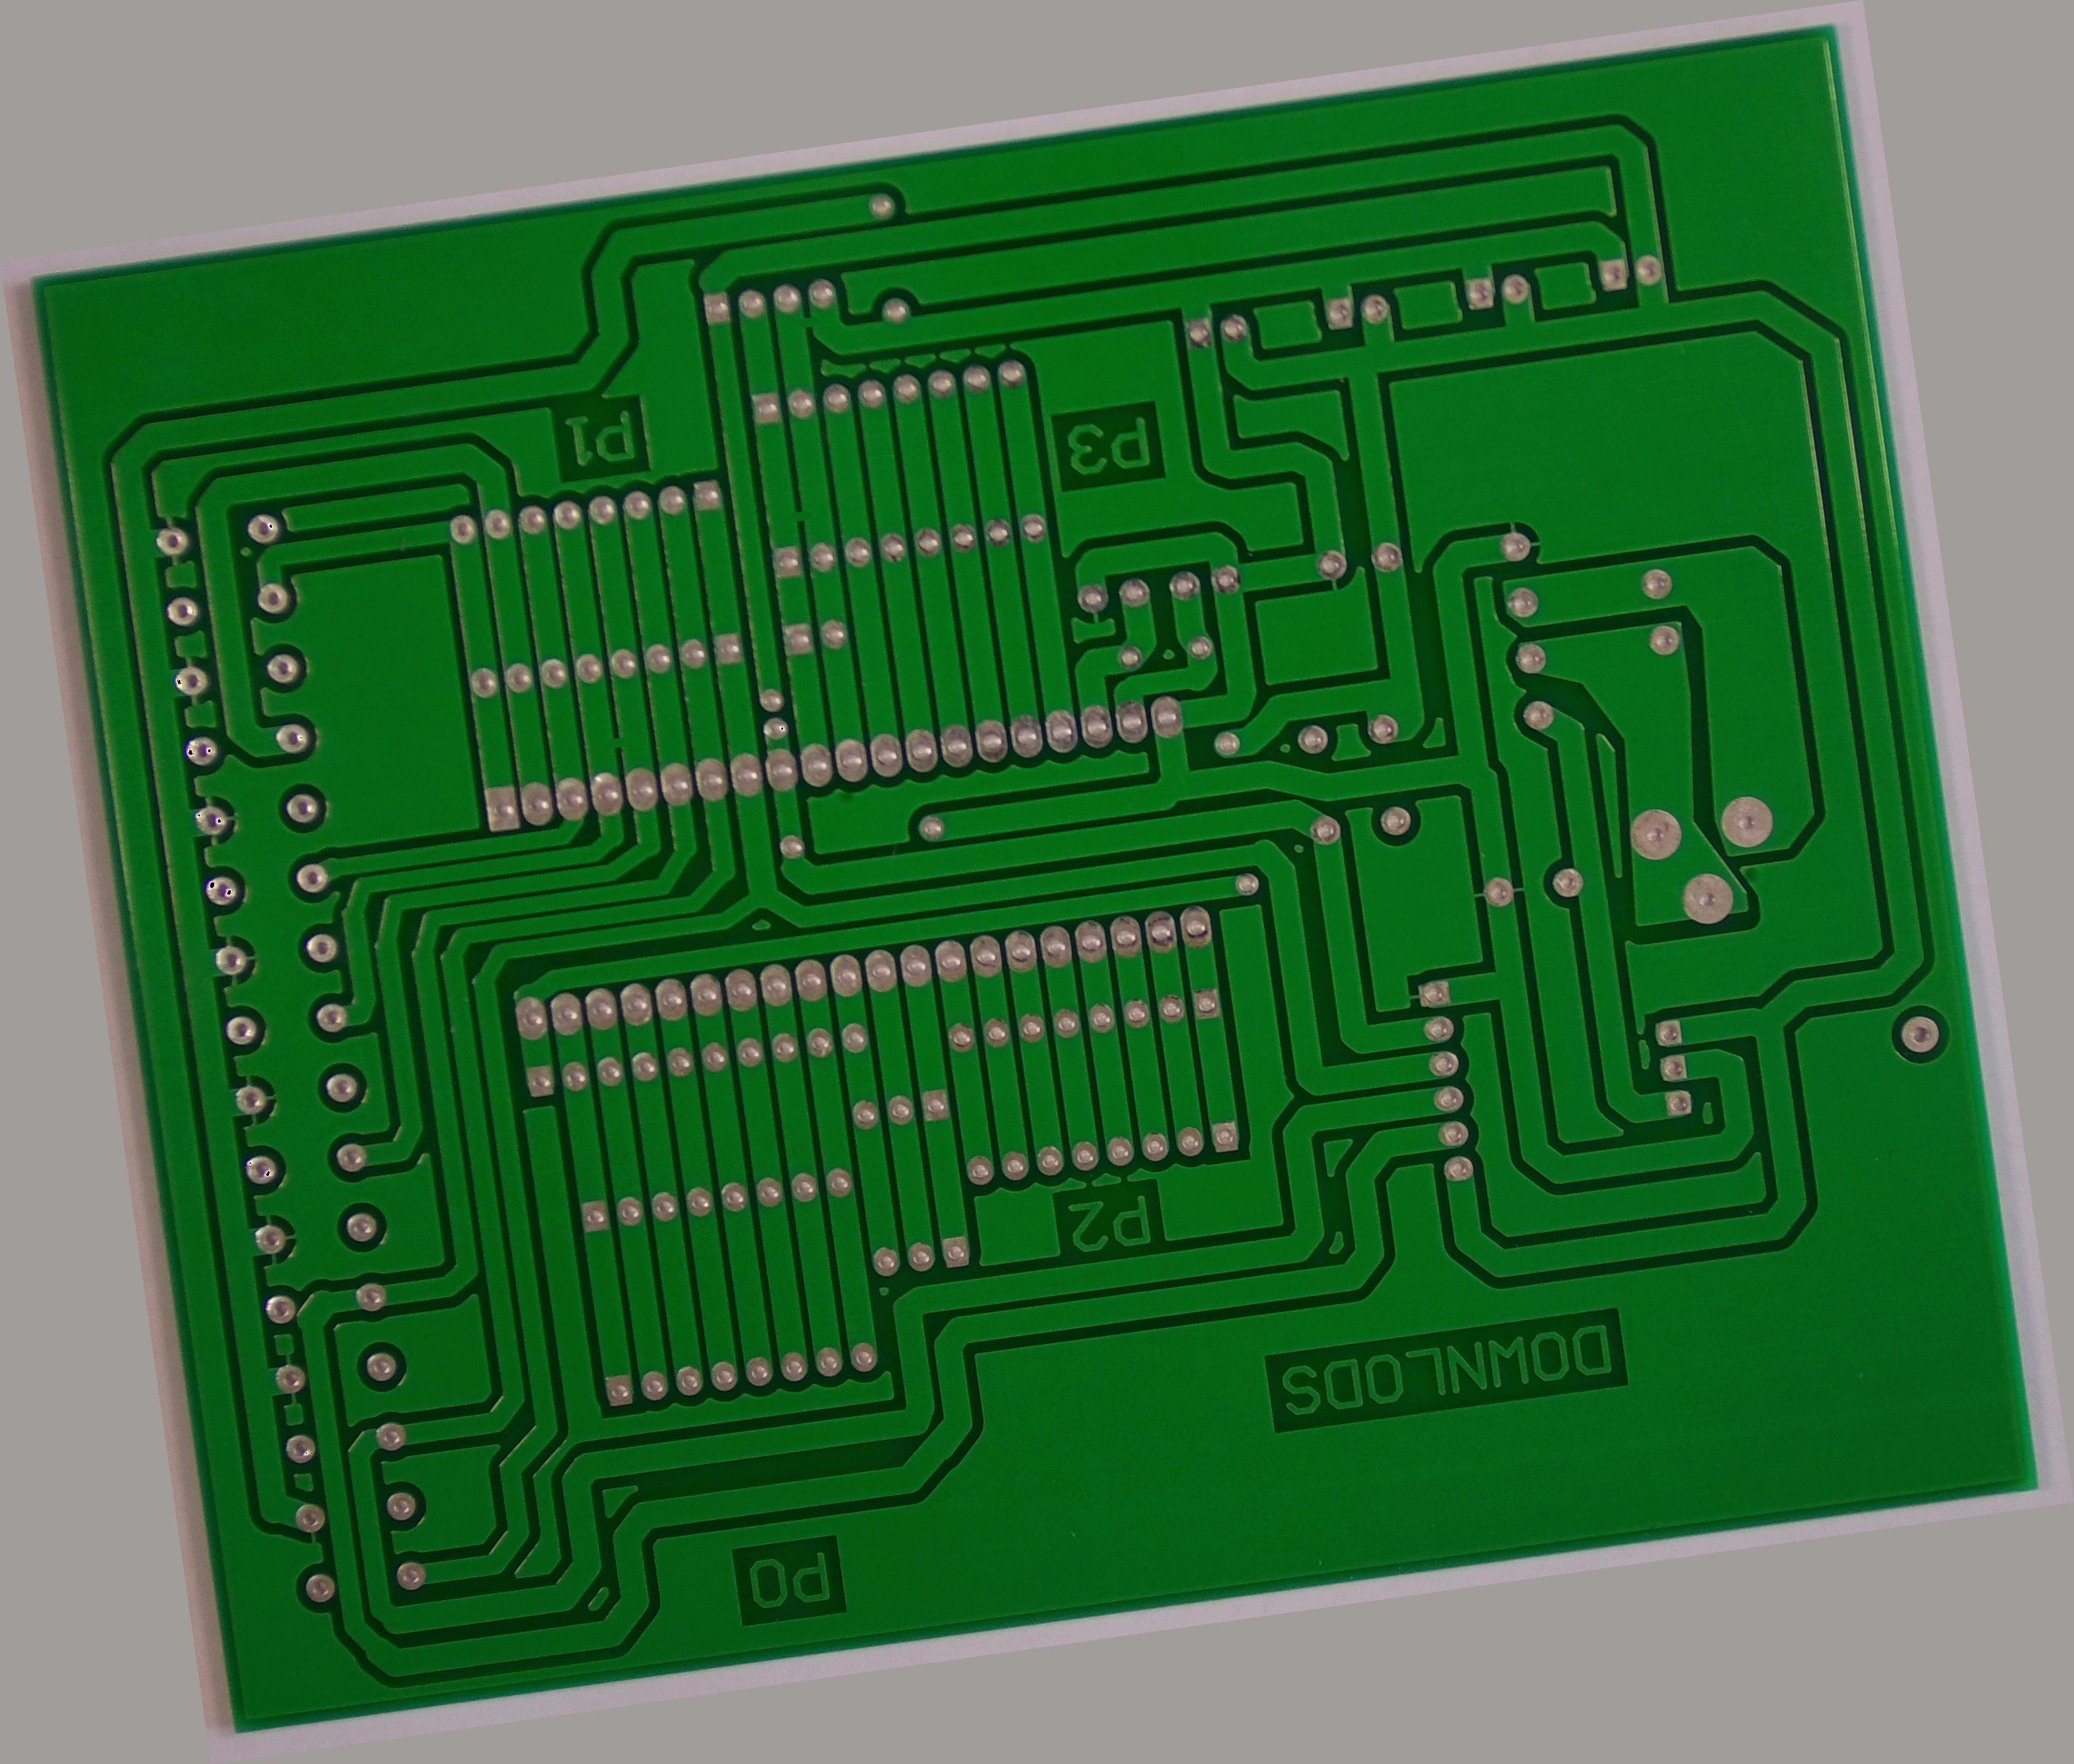short: (583, 714, 648, 774), (781, 292, 838, 350), (772, 488, 828, 541)
